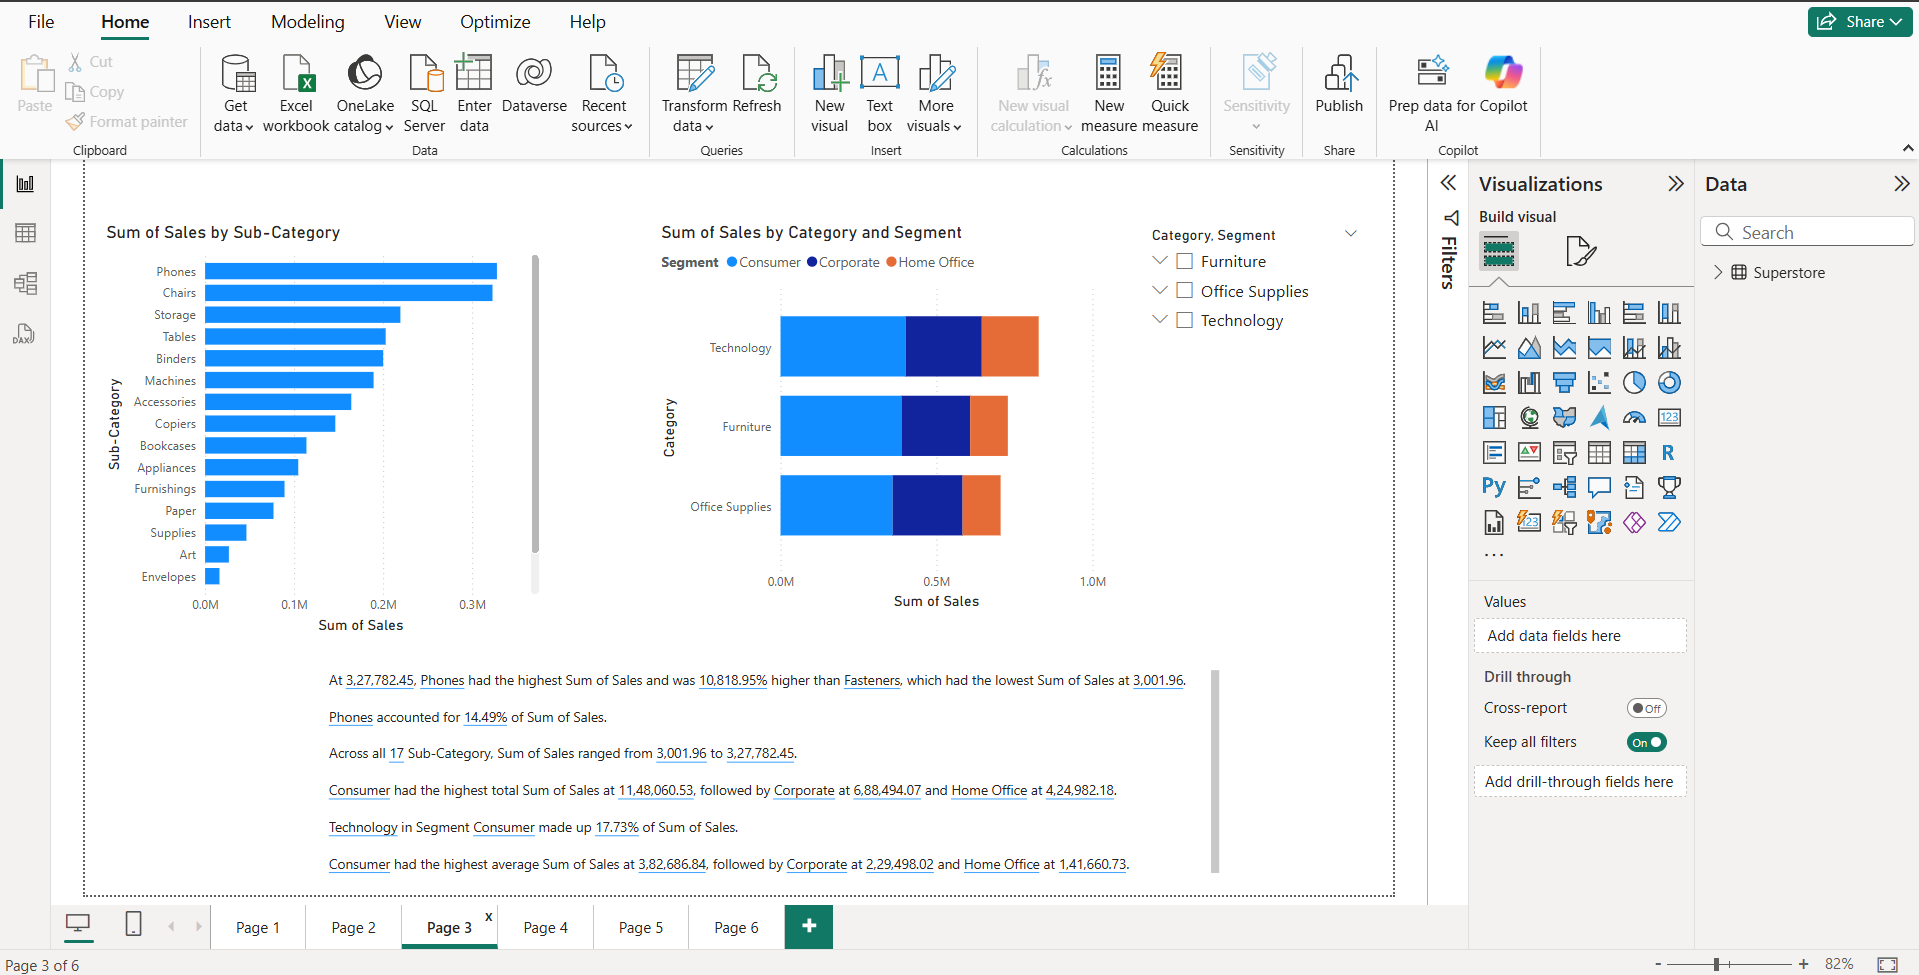

The page's visual inventory and layout, read from the dashboard file:
{"tool":"powerbi","page":{"name":"Page 3","canvas":[1280,720],"ordinal":2},"visuals":[{"type":"clusteredBarChart","fields":{"Category":["train.Sub-Category"],"Y":["Sum(train.Sales)"]},"box":[16.5,61.7,433.6,407.5],"z":0},{"type":"slicer","fields":{"Values":["train.Category","train.Segment"]},"box":[1030.5,61.7,226.4,384.2],"z":1000},{"type":"barChart","fields":{"Category":["train.Category"],"Y":["Sum(train.Sales)"],"Series":["train.Segment"]},"box":[558.5,61.7,446,384.2],"z":2000},{"type":"textbox","box":[233.3,495.4,881,225],"z":3000}]}

Visuals, with their boxes on the page's 1280x720 design canvas (x1, y1, x2, y2). These are canvas units, not pixel positions in the 1919x975 screenshot, which may show the page scaled, cropped or inside an application window:
clusteredBarChart - train.Sub-Category x Sum(train.Sales): region(16, 62, 450, 469)
slicer - train.Category x train.Segment: region(1030, 62, 1257, 446)
barChart - train.Category x Sum(train.Sales): region(558, 62, 1004, 446)
textbox: region(233, 495, 1114, 720)
